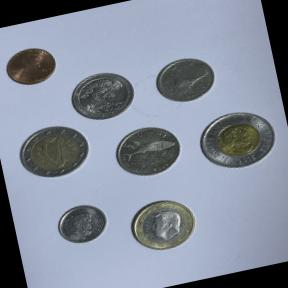coin: (185, 96, 288, 182), (117, 188, 210, 264), (102, 114, 194, 190), (12, 118, 96, 187), (64, 65, 141, 128), (0, 34, 69, 97), (48, 194, 117, 254)
